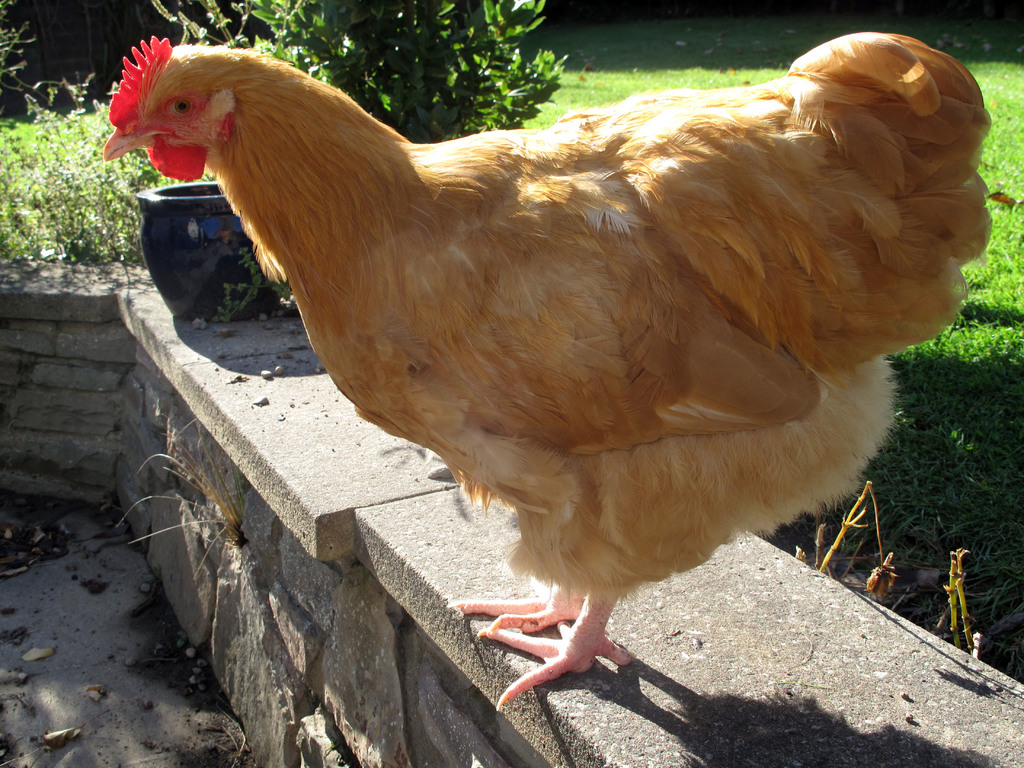chicken: (67, 30, 1013, 735)
